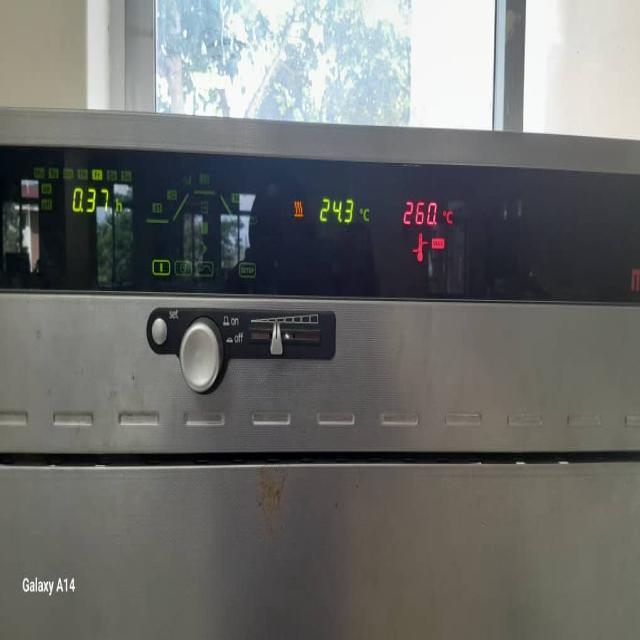Incubator: (1, 98, 640, 640)
